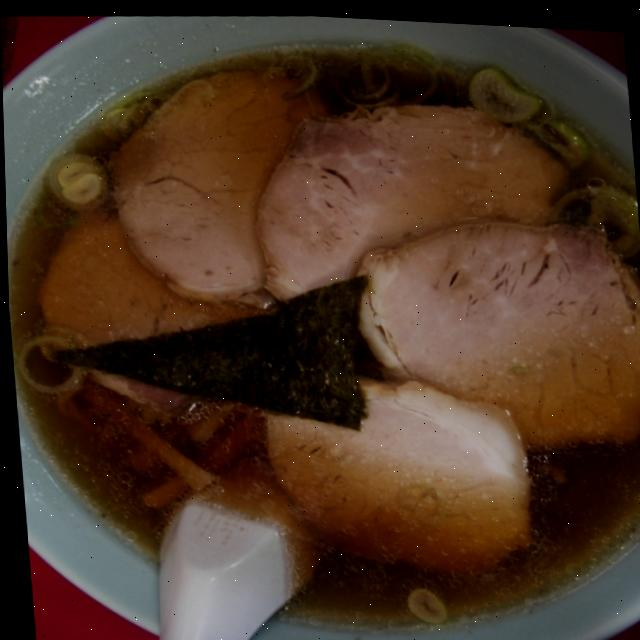面条主食: (0, 18, 640, 640)
